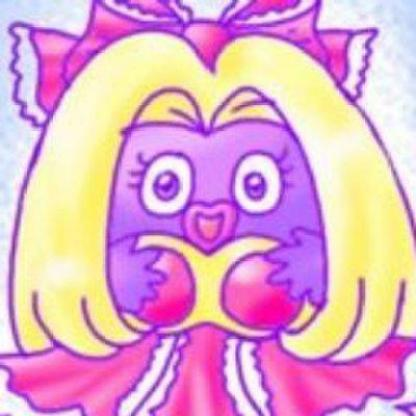Jynx: (1, 1, 416, 414)
